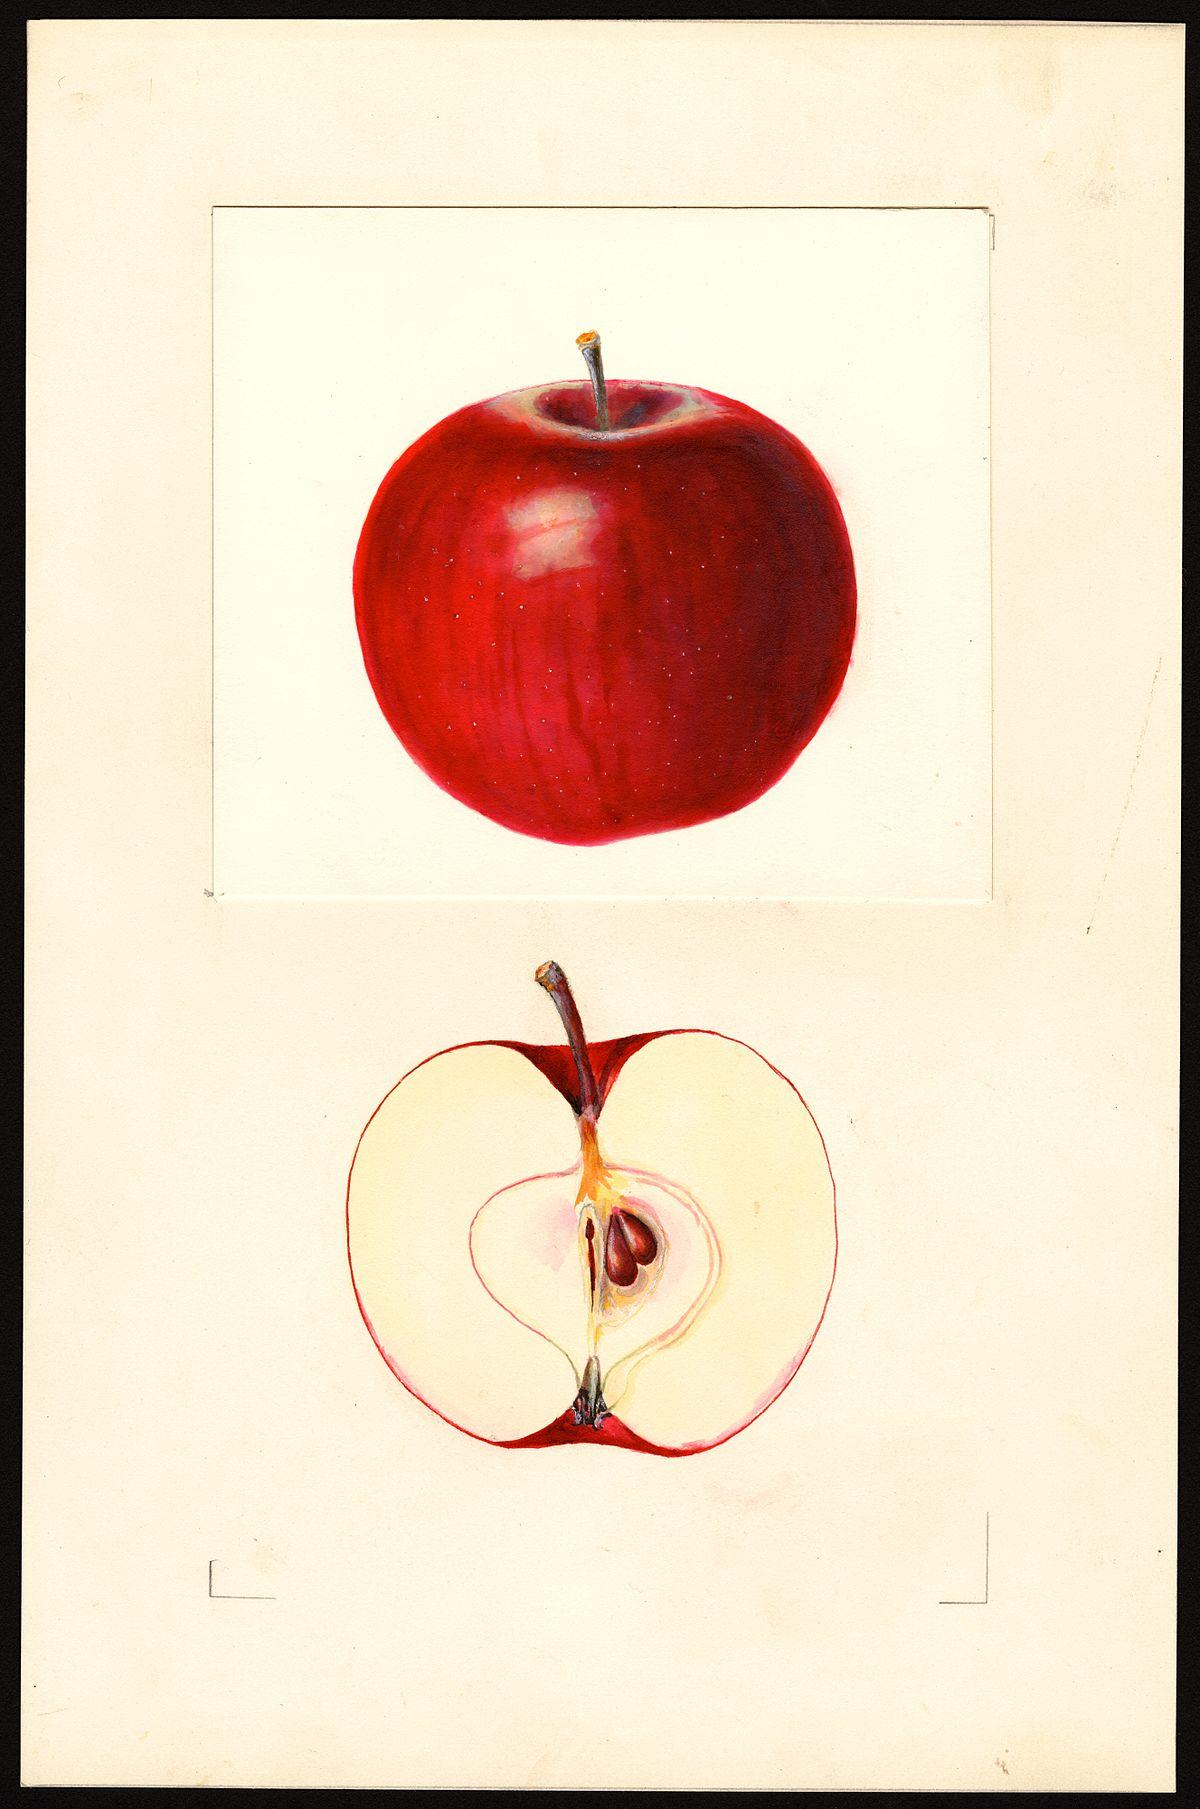Apple Fresh: (295, 300, 909, 880)
